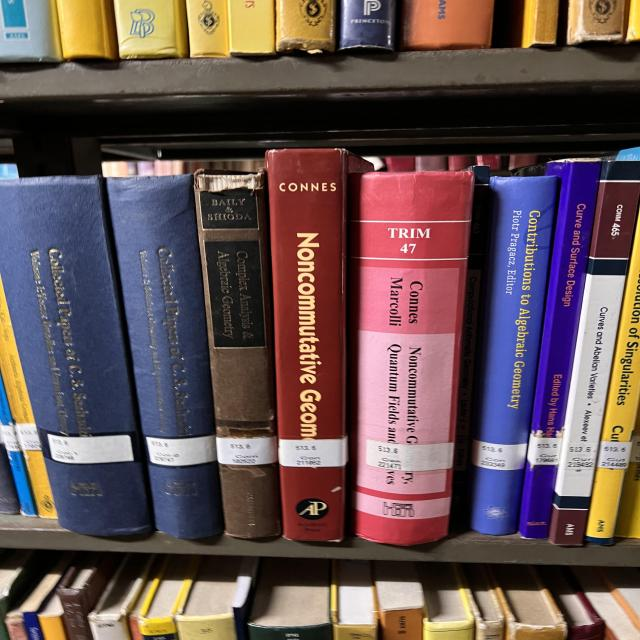Book: (0, 176, 153, 536), (350, 171, 473, 545), (107, 175, 223, 539), (267, 149, 372, 541), (550, 161, 640, 545), (193, 170, 280, 539), (470, 176, 557, 535), (518, 161, 600, 539), (585, 220, 640, 545)
Label: (365, 439, 453, 471), (47, 434, 133, 464), (145, 435, 217, 466), (278, 438, 347, 468), (217, 436, 277, 465), (472, 440, 527, 470), (527, 434, 562, 465), (597, 441, 632, 469), (565, 442, 597, 471)
